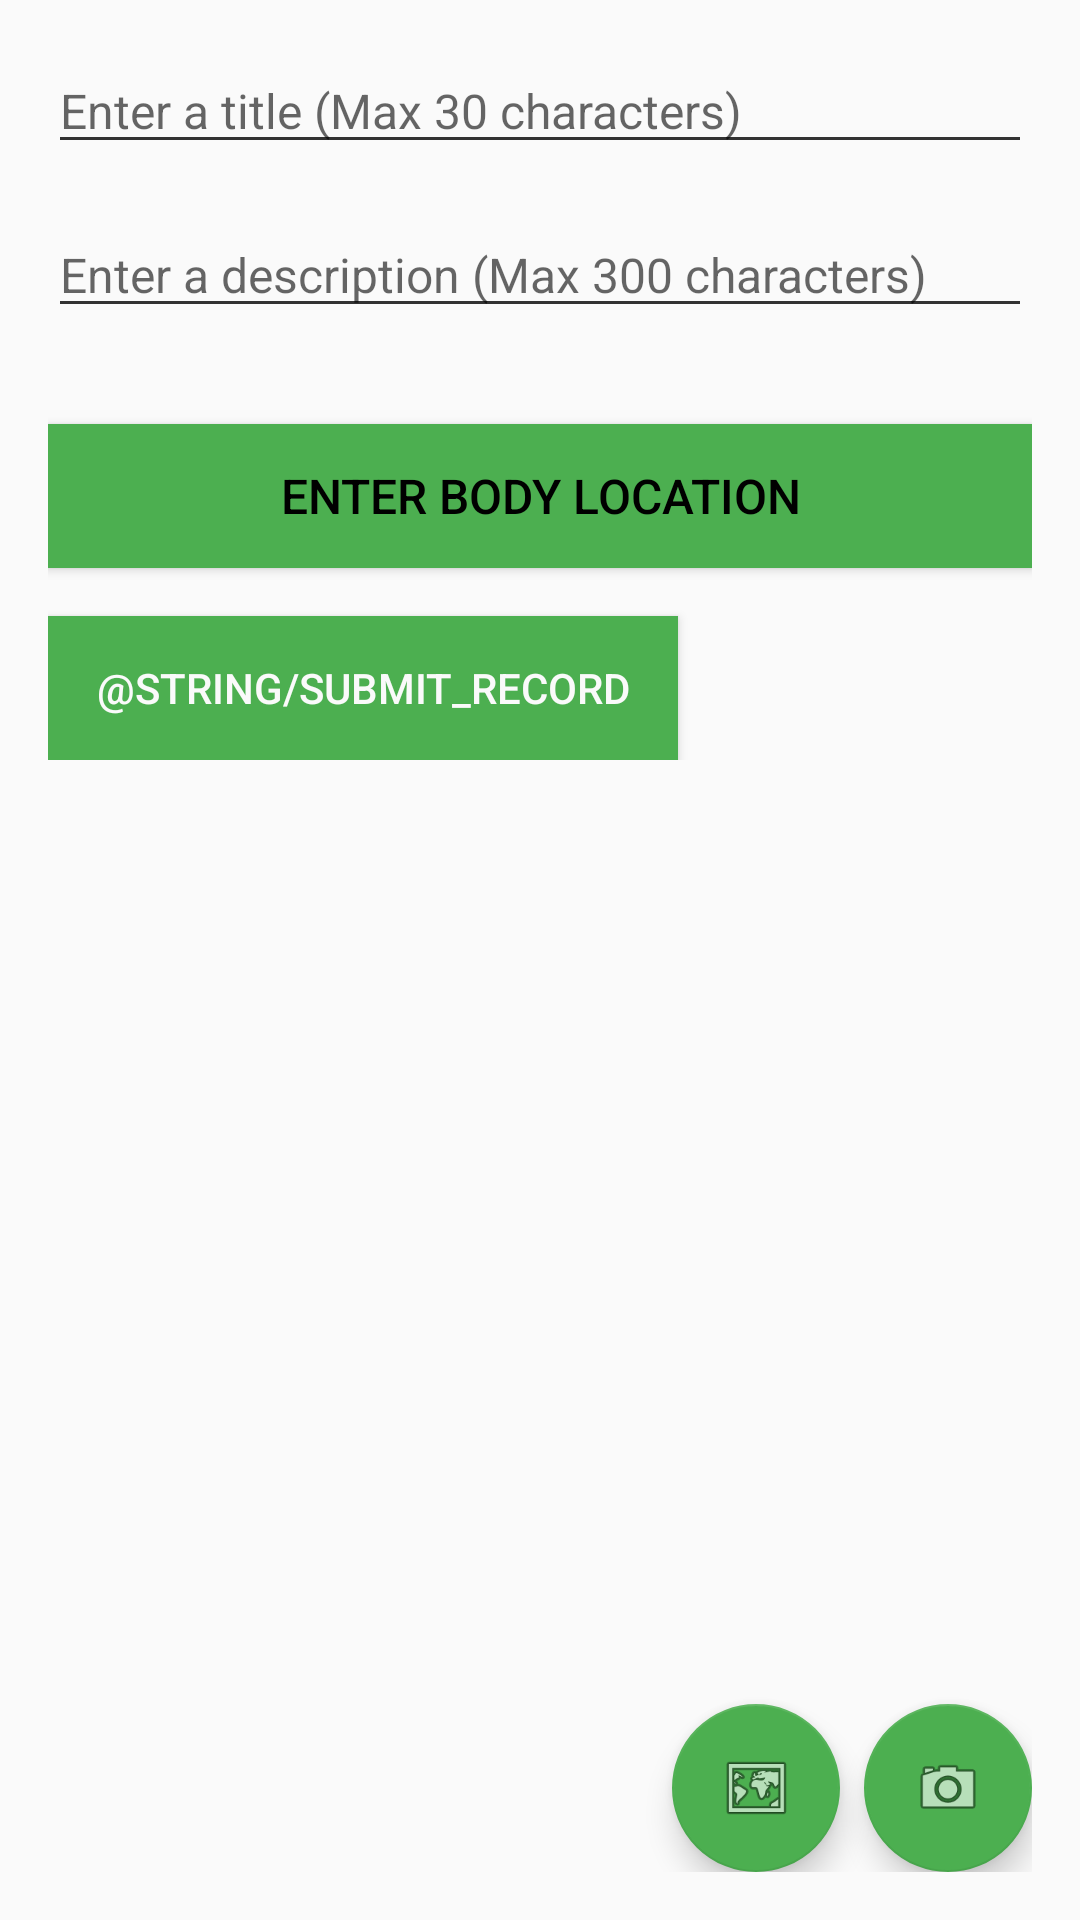

Icons on this 1080*1920 Android screen, each with the point to tap as (x=x, y=y):
camera: (x=948, y=1788)
mapmode: (x=756, y=1788)
